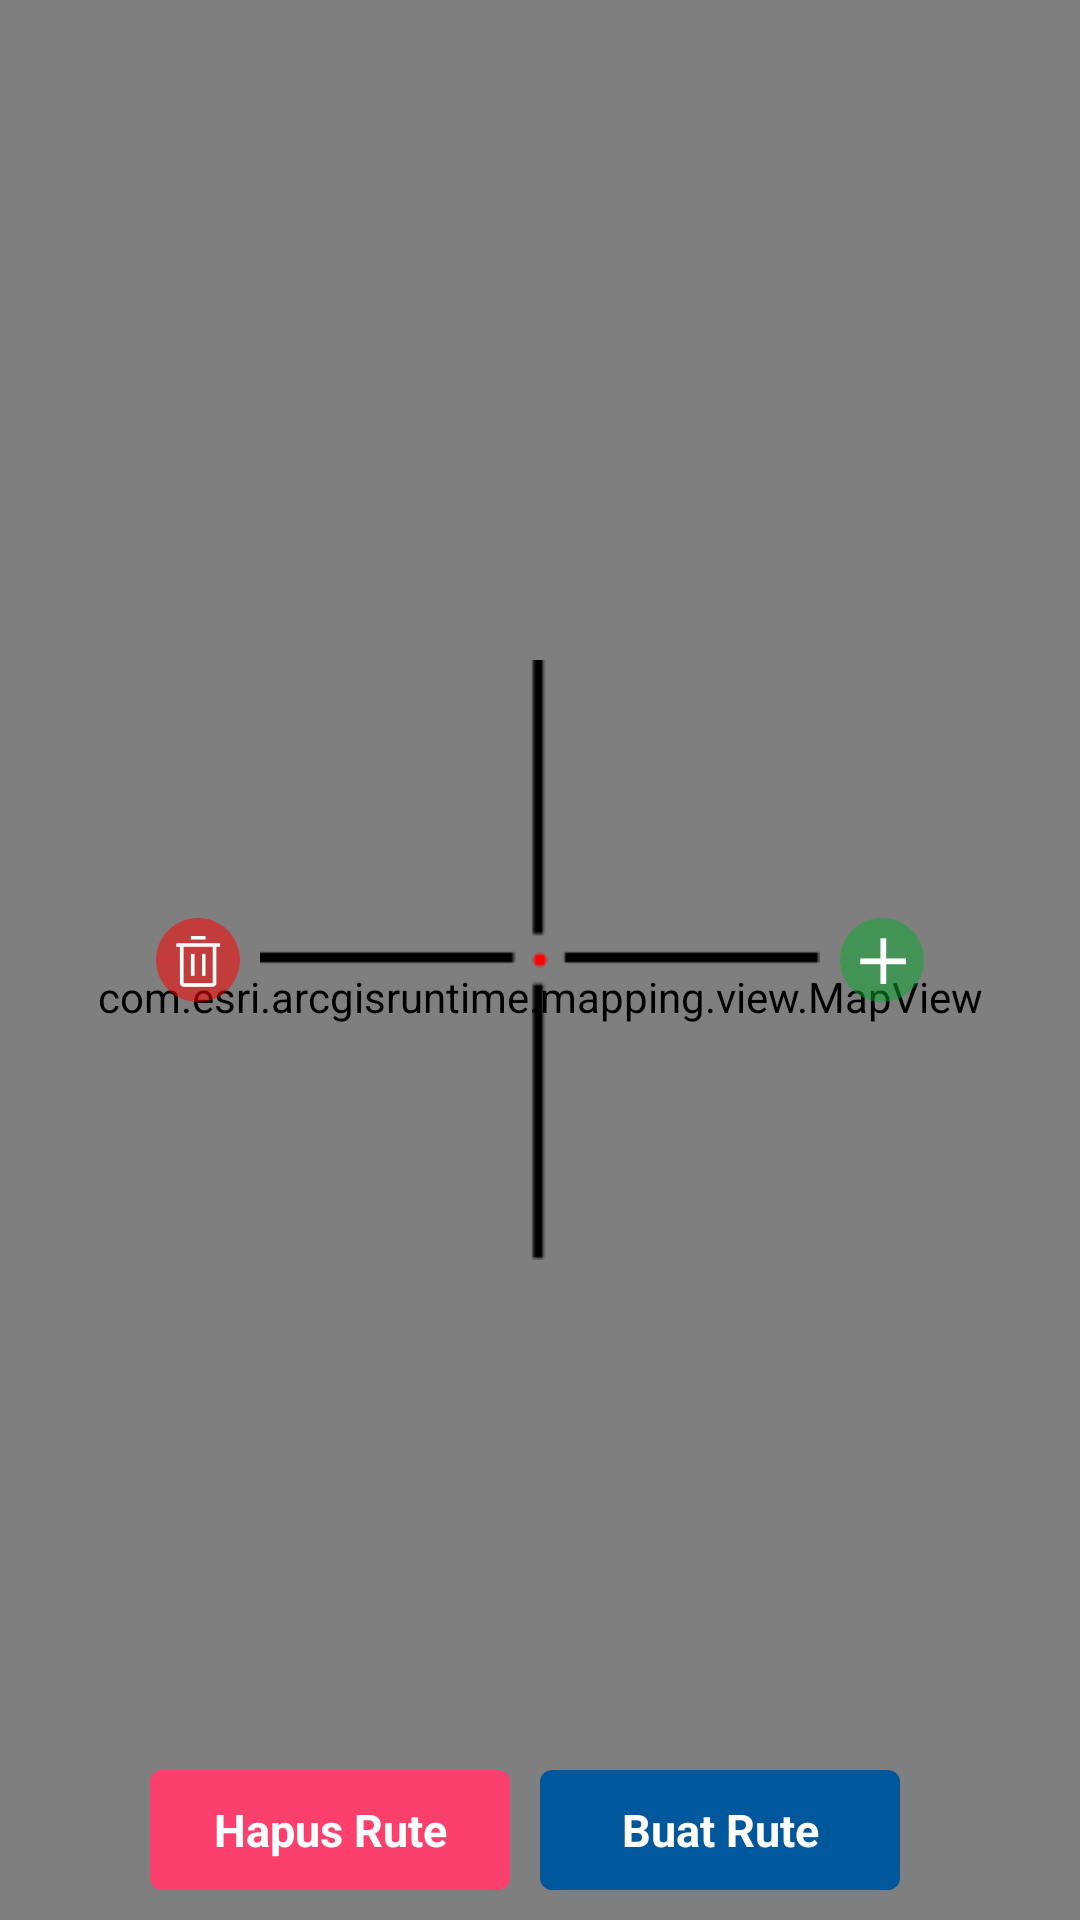

Screen size 1080px x 1920px. Icon name, then its box in pixels as (x1,y1,x2,y2):
add: (840,918,924,1002)
delete: (156,918,240,1002)
